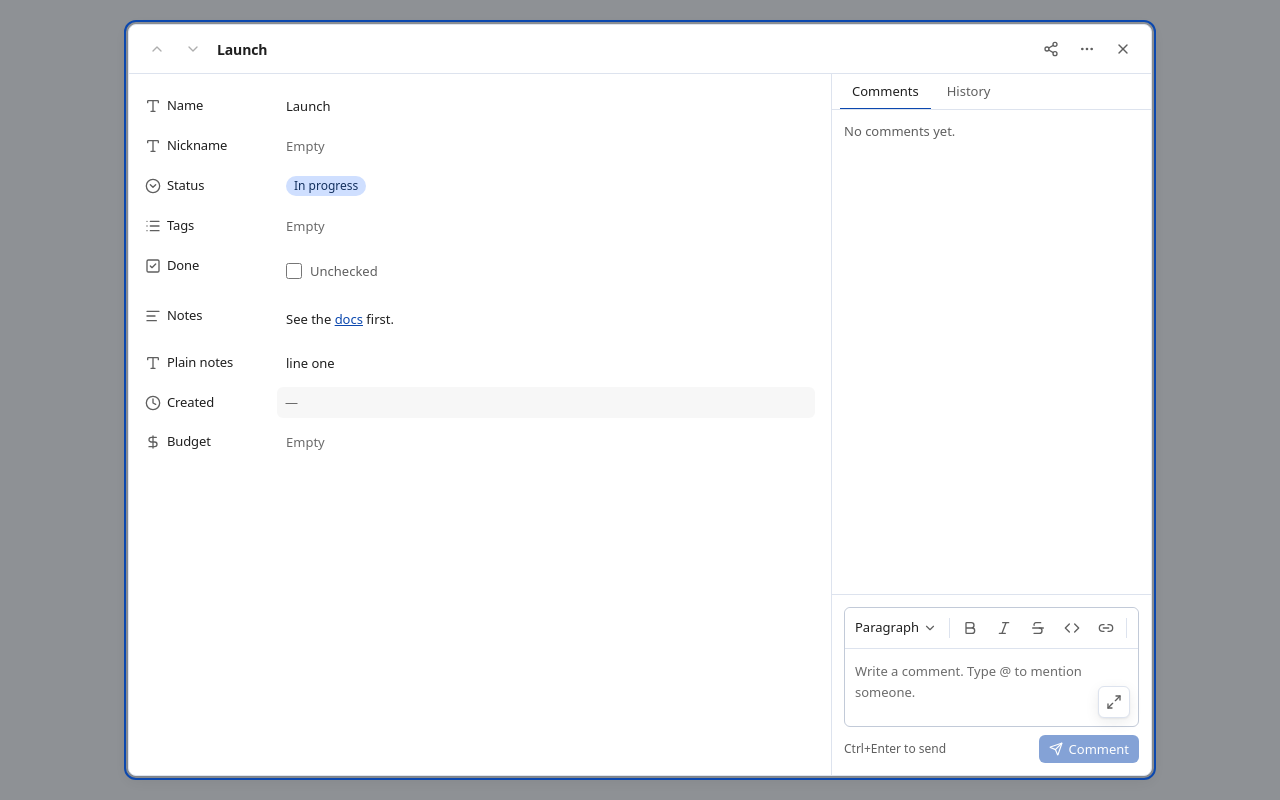
ExpandedRecord: view mode › commits when focus leaves and shows the new value
Click the button with aria-label "Edit Name": {"x": 308, "y": 106} 286,97 -> 330,115
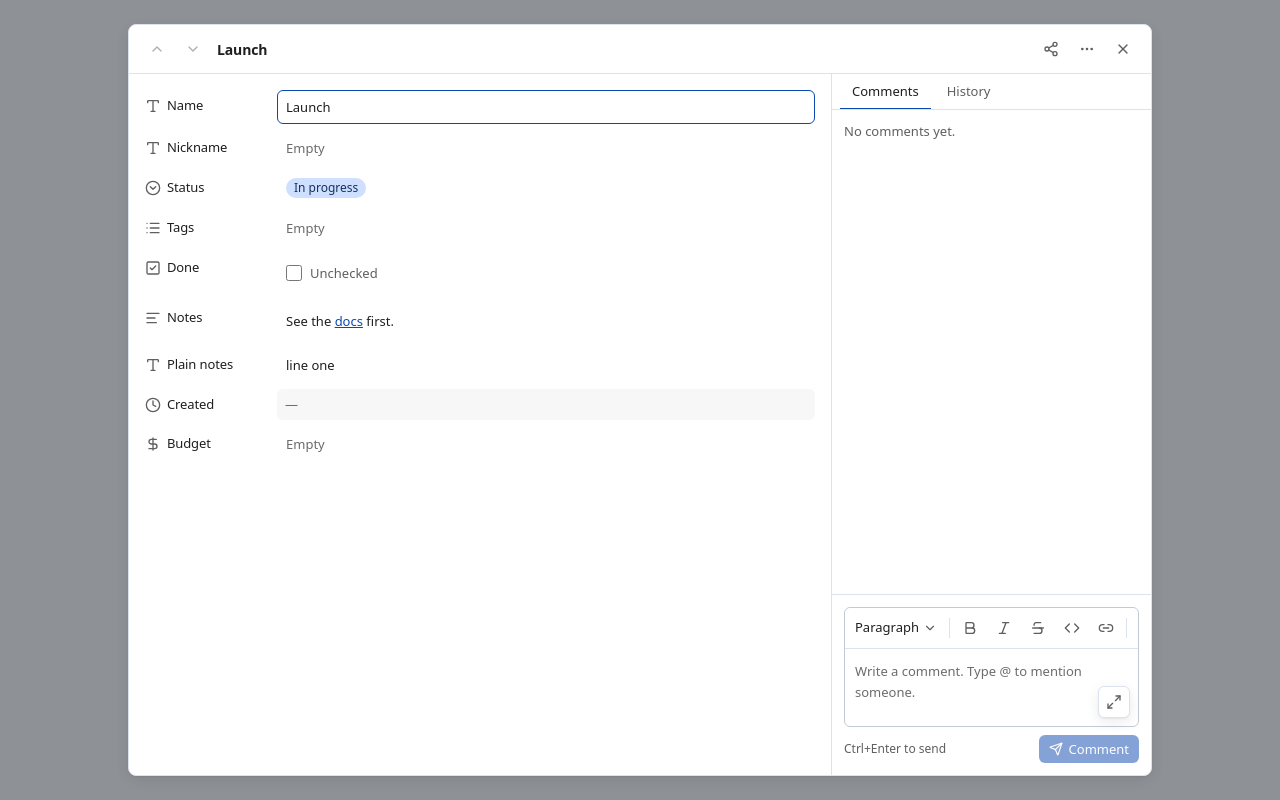
Replace the text in the field labelled "Name" with "Ship it": {"x": 546, "y": 107} 278,91 -> 814,123
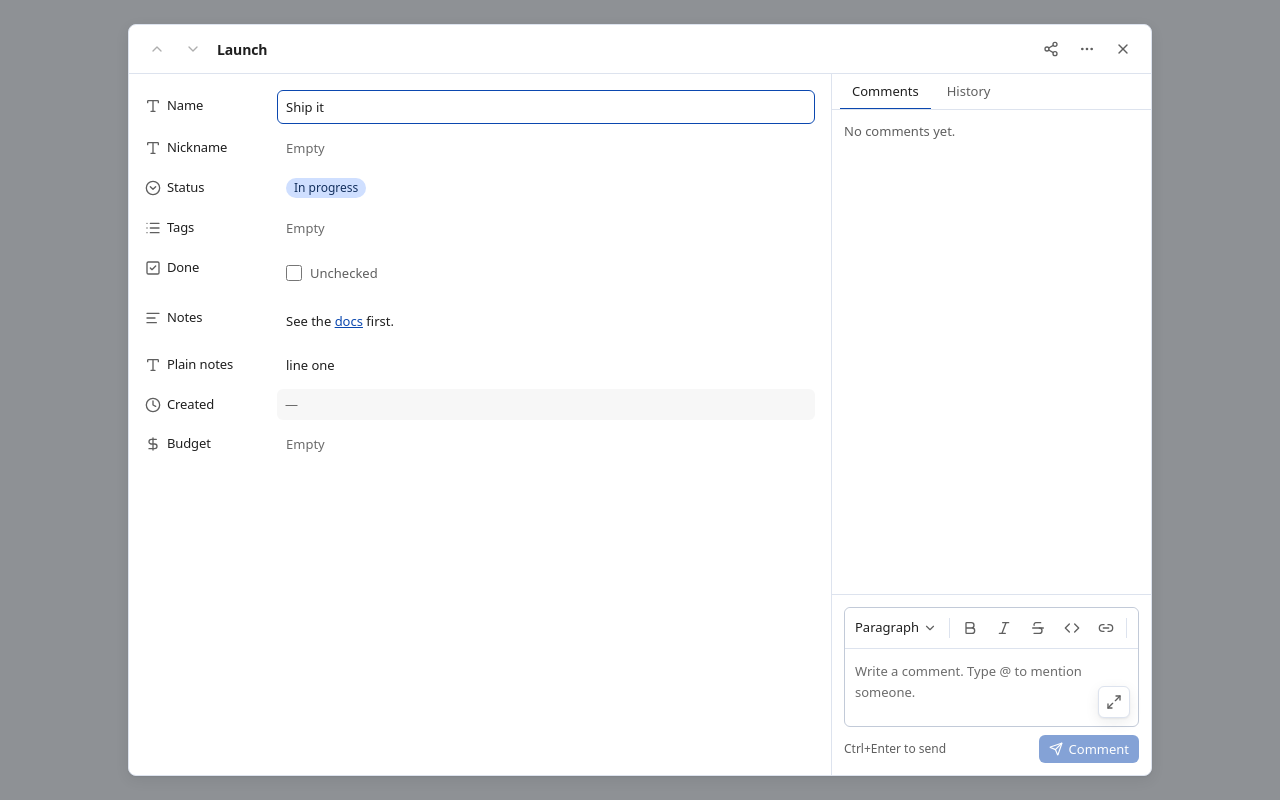
Press Tab
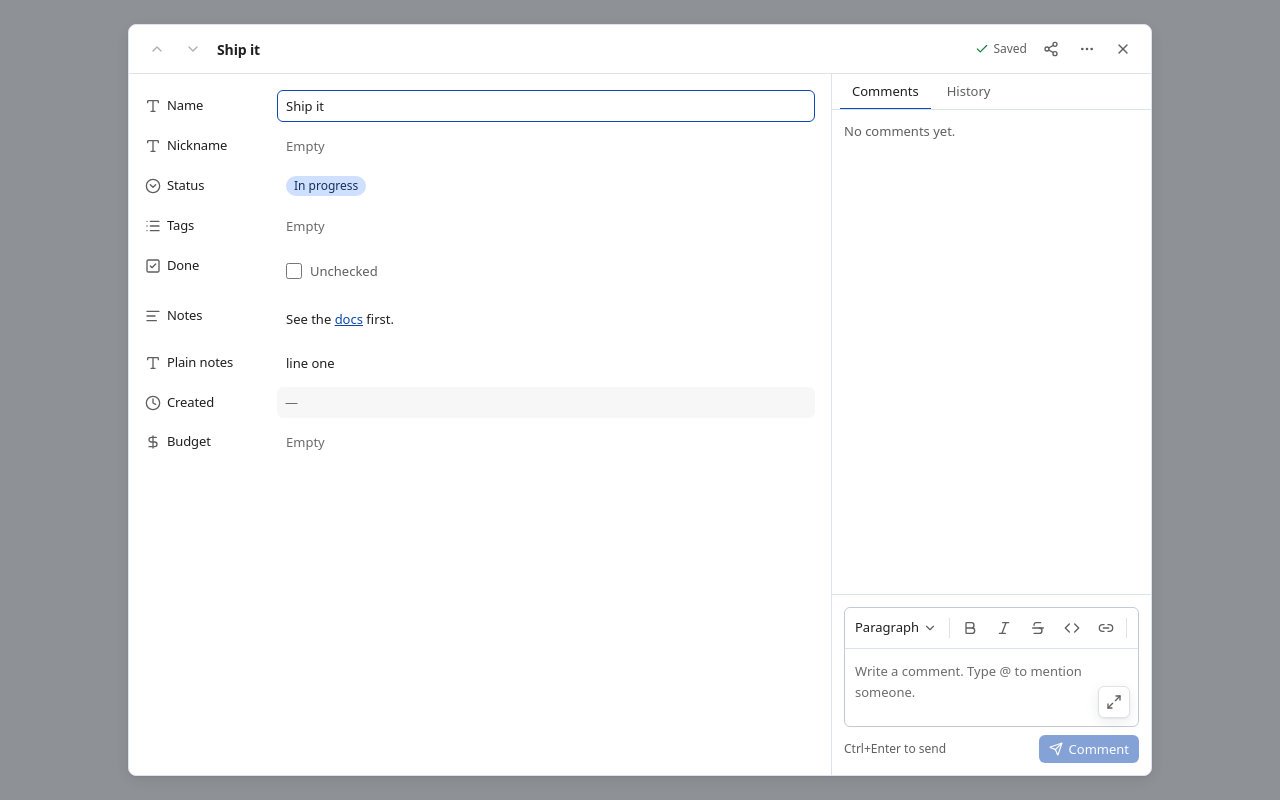
Now the text "Ship it" is shown, box 286,97 -> 324,115
